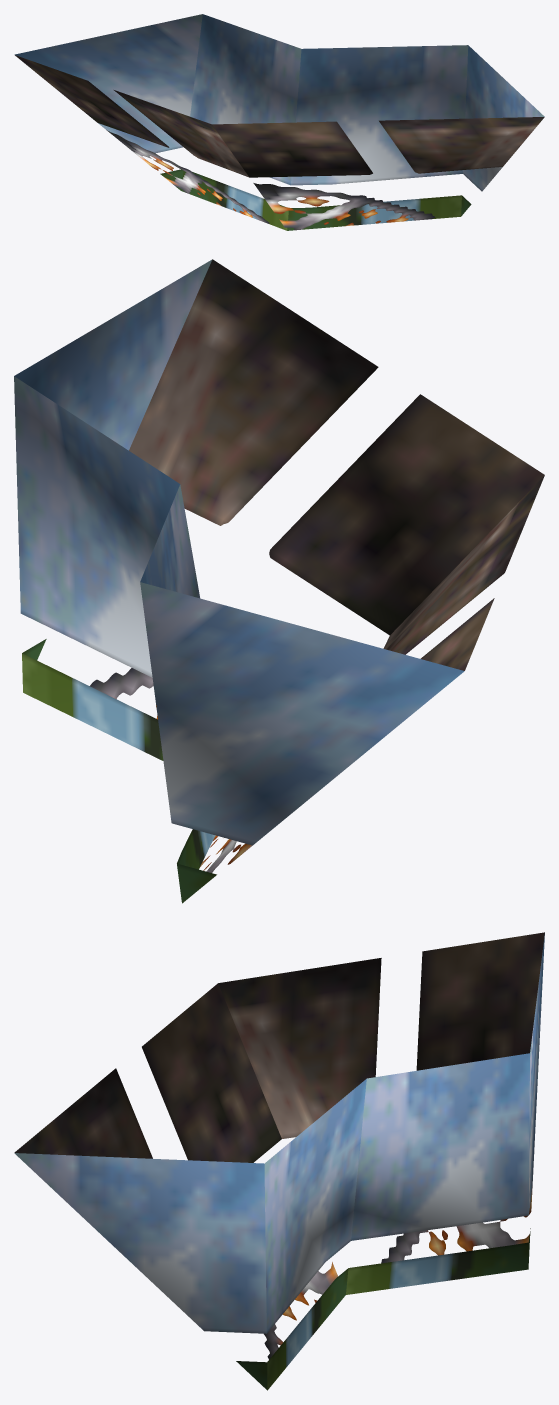
3 views of the same model, one above another, from view 1: azimuth 30°, elevation 25°; view 2: azimuth 150°, elevation 25°; view 3: azimuth 270°, elevation 25° (orthographic). The views are drawn at different scales.
Visible parts, largest first — view 1: T1L2M006_16; view 2: T1L2M006_16; view 3: T1L2M006_16.
Boxes of the visible parts, x1,y1,x2,y2 form: T1L2M006_16: (14, 14, 544, 230); T1L2M006_16: (14, 259, 544, 903); T1L2M006_16: (14, 932, 544, 1390).
Size of the model in its own units: 1.07 by 0.499 by 1.04.
